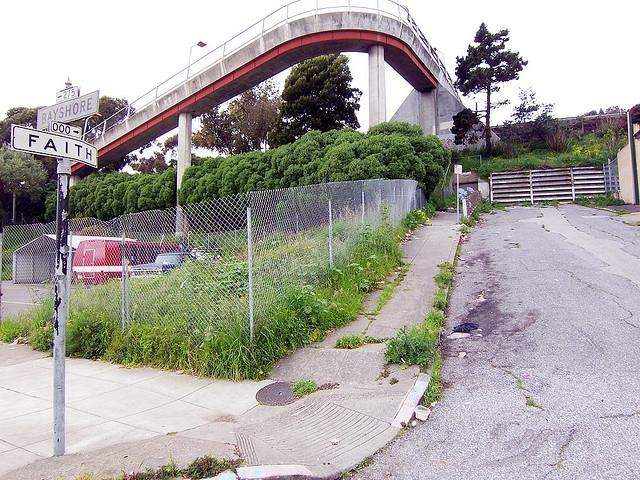bus: (72, 242, 181, 286)
car: (129, 253, 196, 279)
truck: (72, 240, 182, 286), (152, 252, 190, 270)
